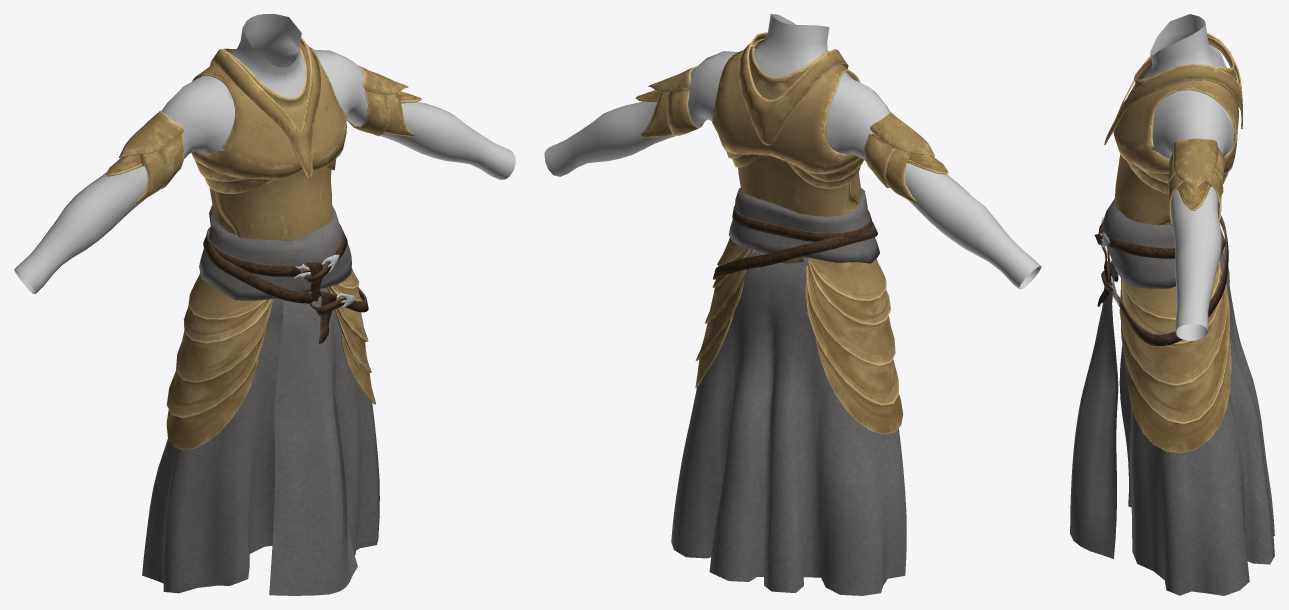
The model's file is rivendell_torso_light_armored_tier3.fbx.
3 renders of one model, left to right at view 1: azimuth 30°, elevation 25°; view 2: azimuth 150°, elevation 25°; view 3: azimuth 270°, elevation 25°, orthographic. The views are drawn at different scales.
Parts seen in each view (by area): view 1: rivendell_torso_light_armored_tier3.4, rivendell_torso_light_armored_tier3.1, rivendell_torso_light_armored_tier3.5, rivendell_torso_light_armored_tier3.2, rivendell_torso_light_armored_tier3.3, rivendell_torso_light_armored_tier3.0; view 2: rivendell_torso_light_armored_tier3.1, rivendell_torso_light_armored_tier3.5, rivendell_torso_light_armored_tier3.2, rivendell_torso_light_armored_tier3.3, rivendell_torso_light_armored_tier3.4, rivendell_torso_light_armored_tier3.0; view 3: rivendell_torso_light_armored_tier3.1, rivendell_torso_light_armored_tier3.4, rivendell_torso_light_armored_tier3.3, rivendell_torso_light_armored_tier3.5, rivendell_torso_light_armored_tier3.2, rivendell_torso_light_armored_tier3.0.
Part boxes in pixels (x1=…): rivendell_torso_light_armored_tier3.4: x1=199, y1=205, x2=368, y2=595; rivendell_torso_light_armored_tier3.1: x1=142, y1=287, x2=379, y2=593; rivendell_torso_light_armored_tier3.5: x1=14, y1=14, x2=515, y2=293; rivendell_torso_light_armored_tier3.2: x1=191, y1=37, x2=346, y2=241; rivendell_torso_light_armored_tier3.3: x1=166, y1=268, x2=375, y2=449; rivendell_torso_light_armored_tier3.0: x1=106, y1=65, x2=421, y2=204; rivendell_torso_light_armored_tier3.1: x1=671, y1=250, x2=906, y2=595; rivendell_torso_light_armored_tier3.5: x1=544, y1=14, x2=1041, y2=289; rivendell_torso_light_armored_tier3.2: x1=712, y1=32, x2=863, y2=263; rivendell_torso_light_armored_tier3.3: x1=695, y1=237, x2=903, y2=434; rivendell_torso_light_armored_tier3.4: x1=713, y1=187, x2=879, y2=279; rivendell_torso_light_armored_tier3.0: x1=635, y1=66, x2=948, y2=202; rivendell_torso_light_armored_tier3.1: x1=1119, y1=252, x2=1274, y2=595; rivendell_torso_light_armored_tier3.4: x1=1070, y1=198, x2=1228, y2=558; rivendell_torso_light_armored_tier3.3: x1=1119, y1=248, x2=1231, y2=452; rivendell_torso_light_armored_tier3.5: x1=1141, y1=14, x2=1234, y2=340; rivendell_torso_light_armored_tier3.2: x1=1104, y1=32, x2=1242, y2=225; rivendell_torso_light_armored_tier3.0: x1=1166, y1=138, x2=1225, y2=226.
Bounding box in the file's own units: 1.38 × 0.5129 × 1.46.
